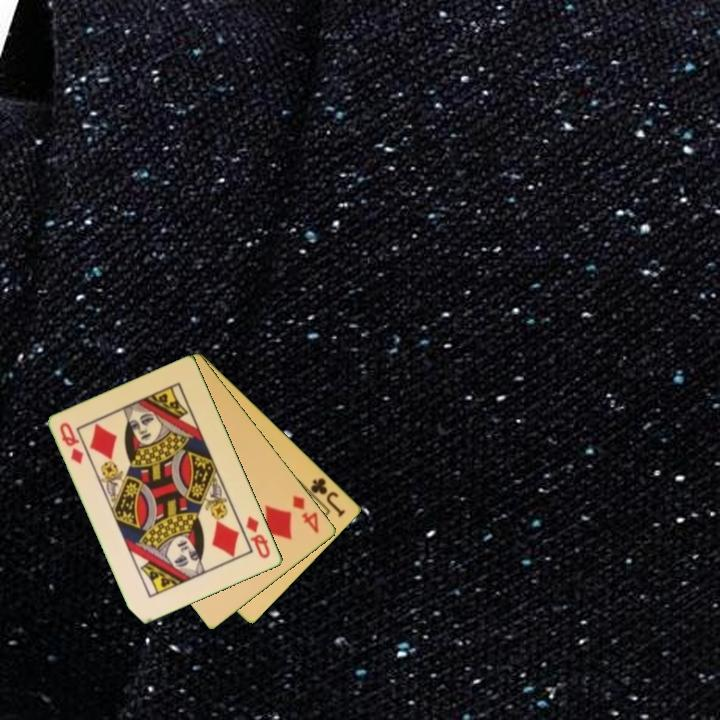4d: (289, 492, 322, 536)
Jc: (307, 474, 349, 520)
Qd: (243, 513, 274, 562), (56, 419, 87, 467)
